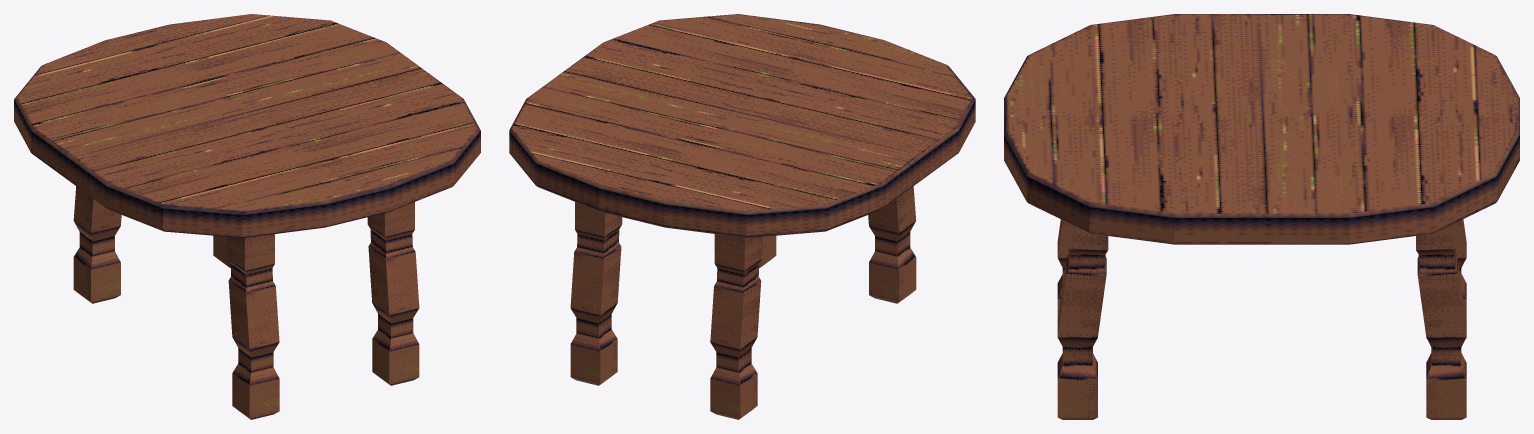
The model's file is MesaMadera_01.fbx.
3 views of the same model, side by side, from view 1: azimuth 30°, elevation 25°; view 2: azimuth 150°, elevation 25°; view 3: azimuth 270°, elevation 25° (orthographic). The views are drawn at different scales.
Parts seen in each view (by area): view 1: Mesa_Madera_01.002; view 2: Mesa_Madera_01.002; view 3: Mesa_Madera_01.002.
Part boxes in pixels (<box>): Mesa_Madera_01.002: <box>14,14,480,419</box>; Mesa_Madera_01.002: <box>509,14,975,419</box>; Mesa_Madera_01.002: <box>1004,14,1519,419</box>.
Size of the model in its own units: 125 by 75.13 by 135.
